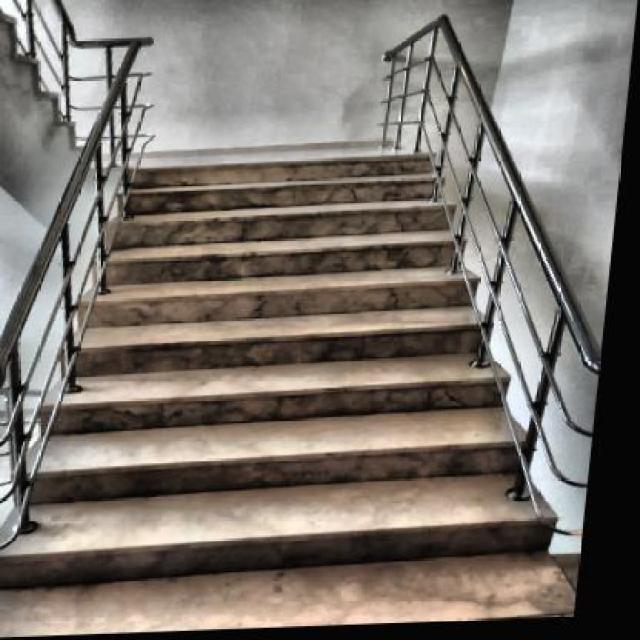stair: (33, 157, 604, 577)
